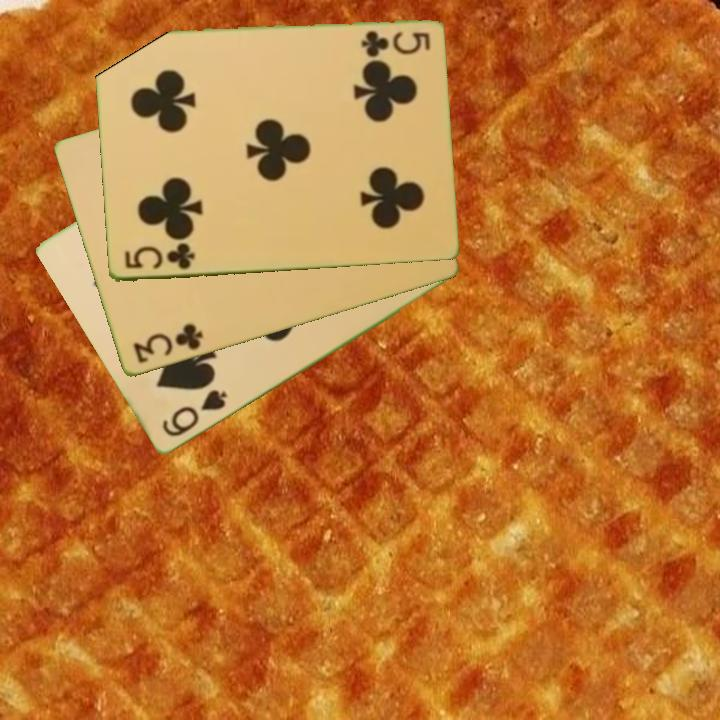3c: (129, 320, 206, 367)
5c: (120, 239, 197, 273), (357, 28, 433, 56)
6s: (158, 386, 230, 441)
